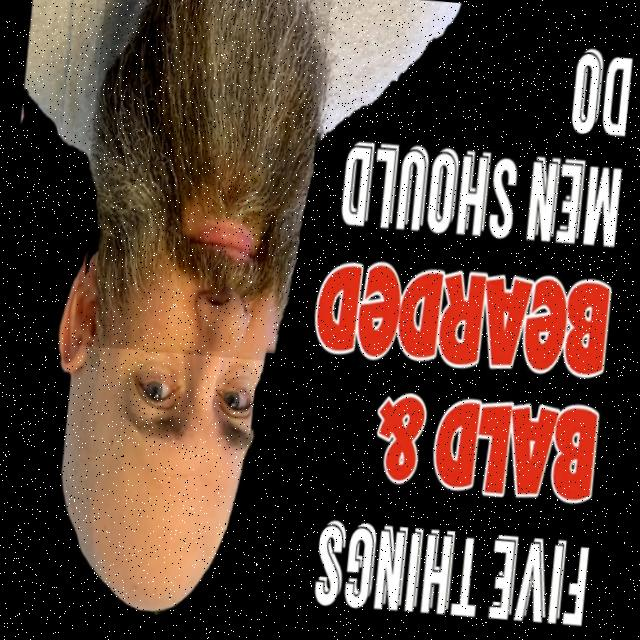beard: (89, 0, 324, 347)
